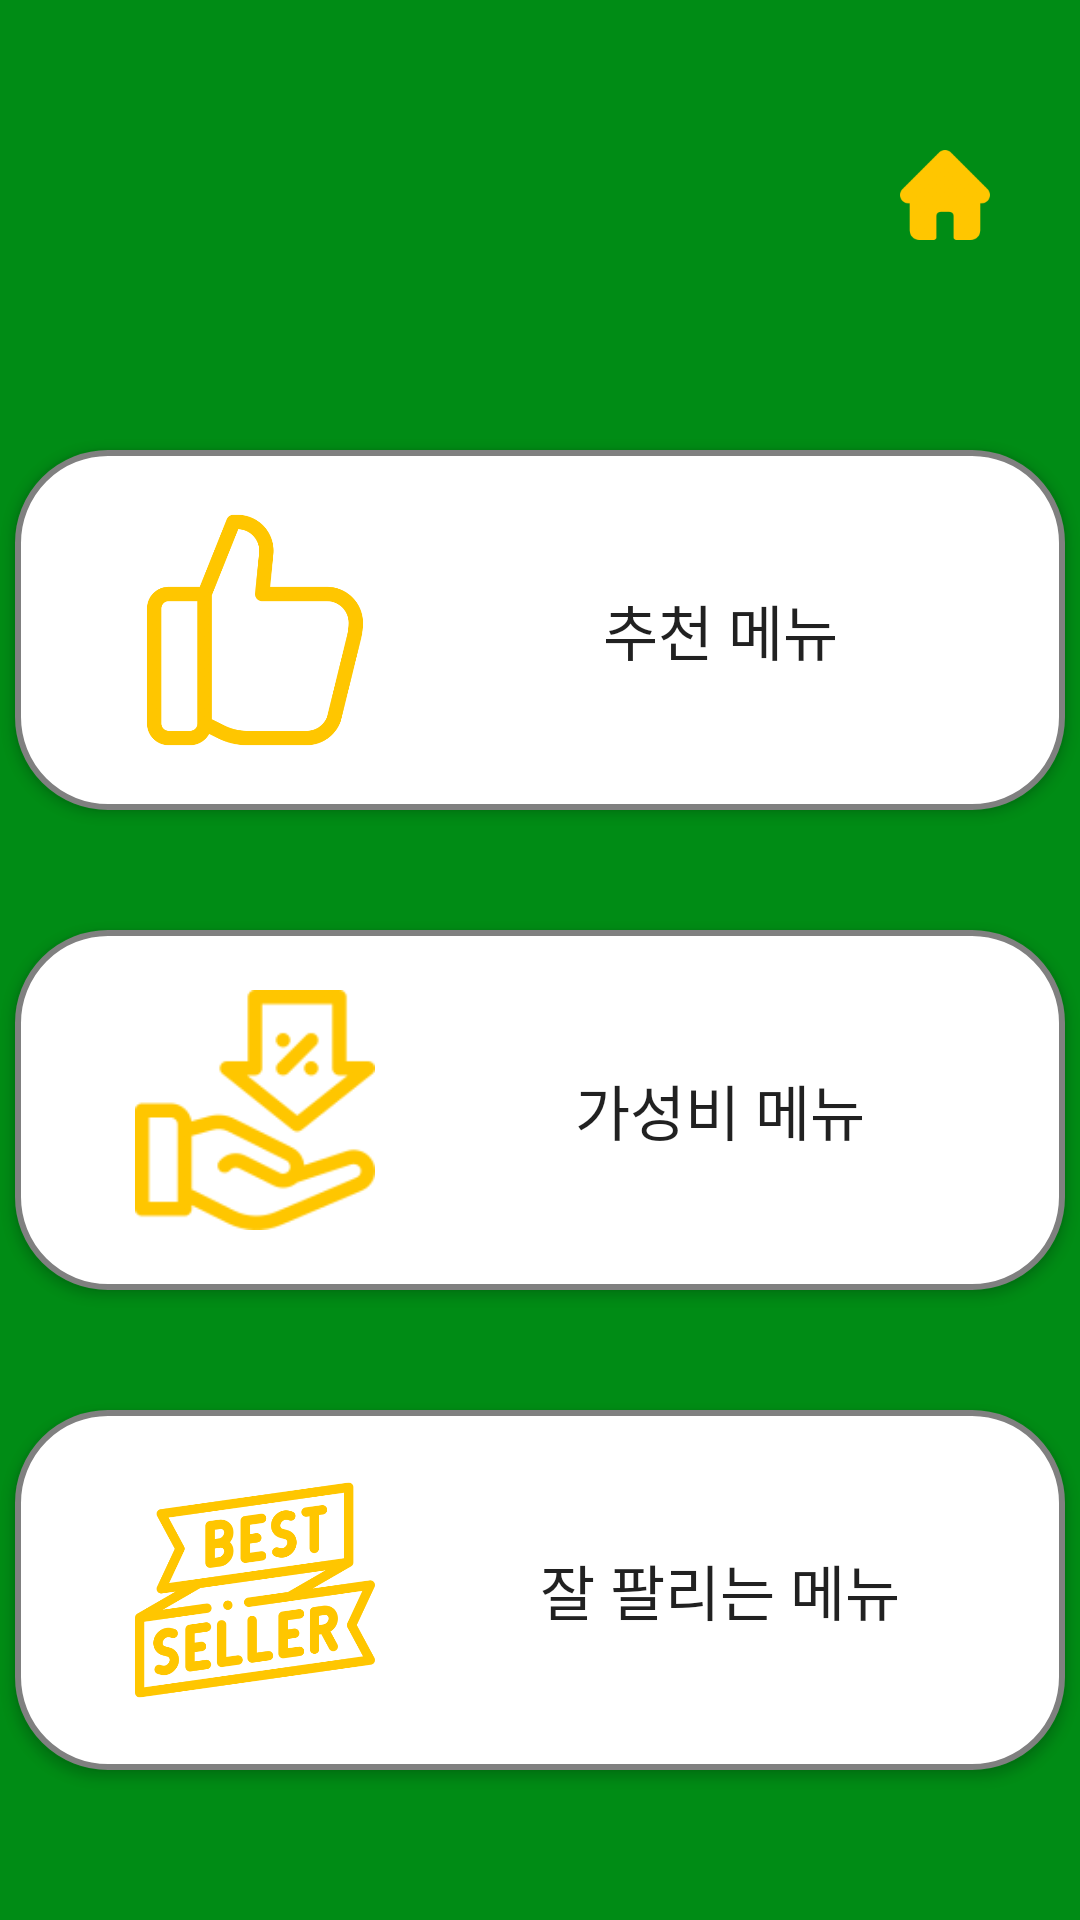

Screen size 1080 × 1920. Icon name, then its center in pixels as point (x, y):
home: point (945, 195)
